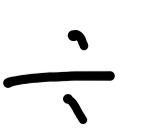div: (5, 27, 115, 123)
